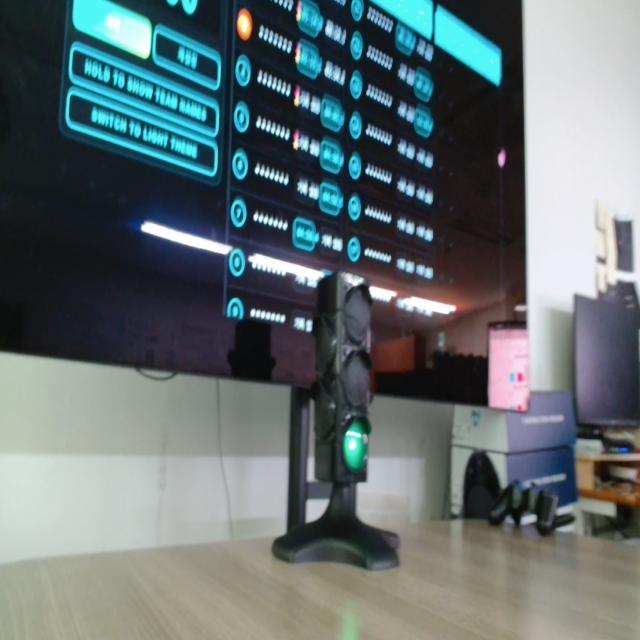green_light: (343, 418, 371, 473)
